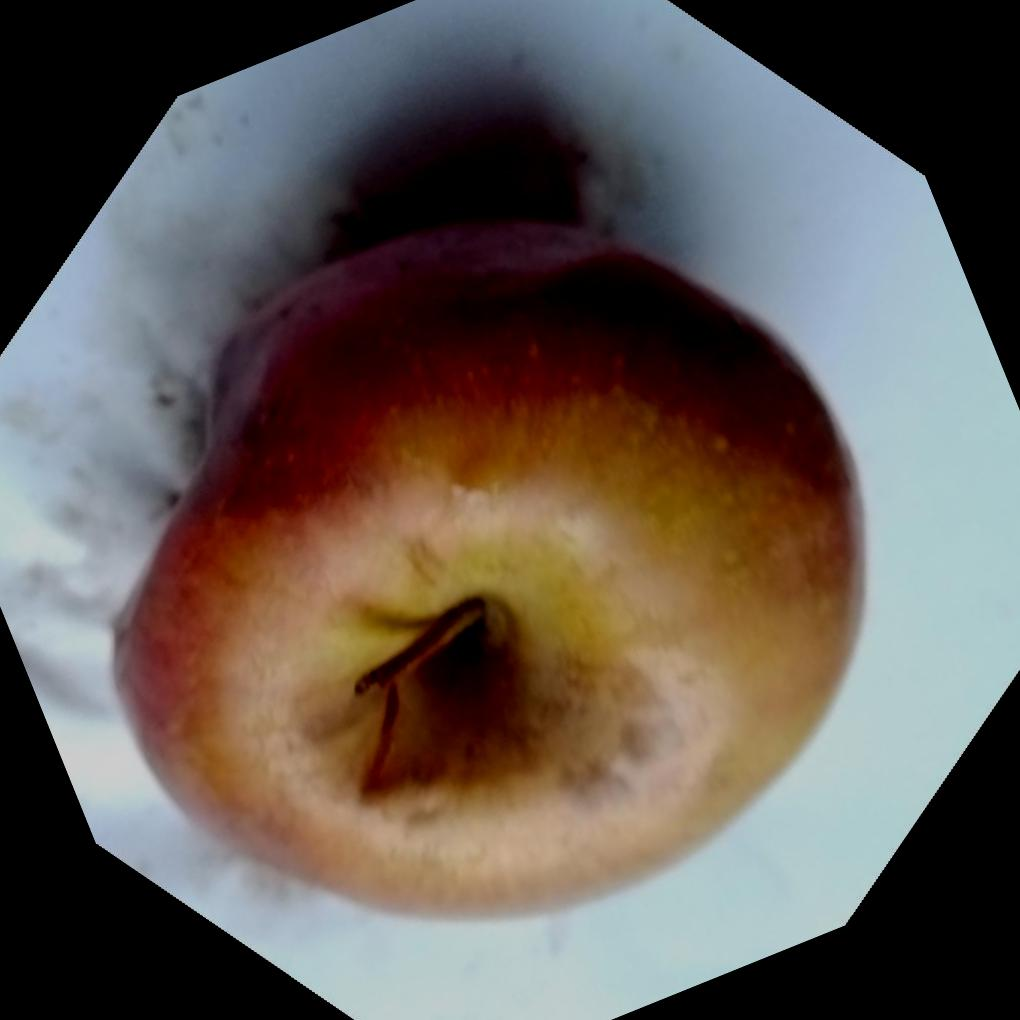FreshOrange: (109, 208, 868, 920)
